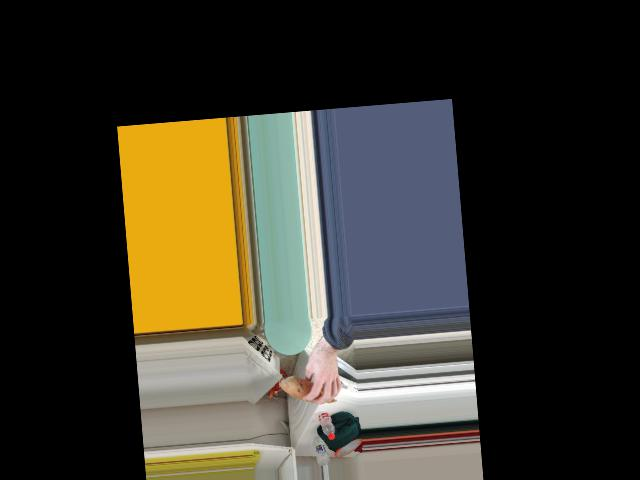sweet_potato: (283, 377, 338, 406)
